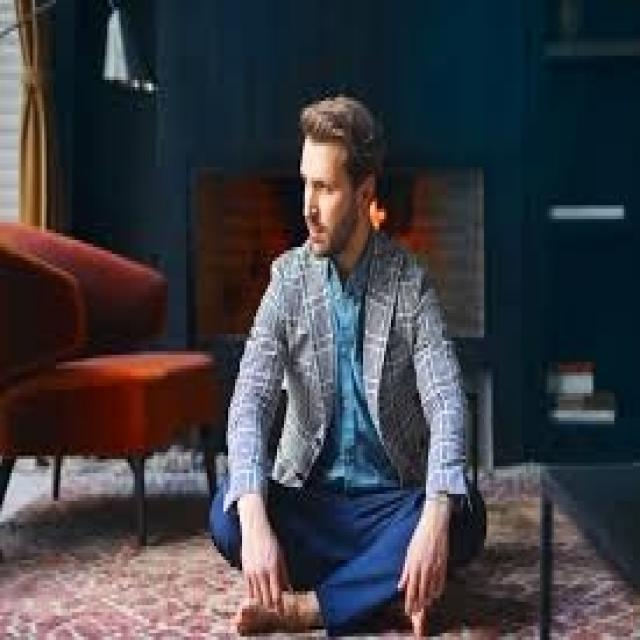fall detected: (207, 84, 487, 630)
